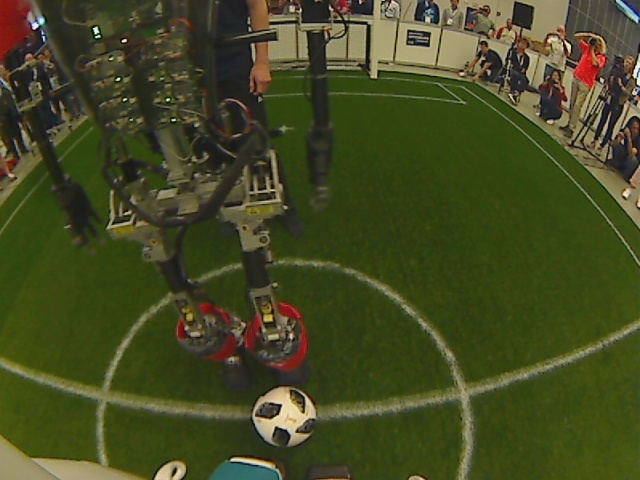ball: (248, 381, 321, 450)
